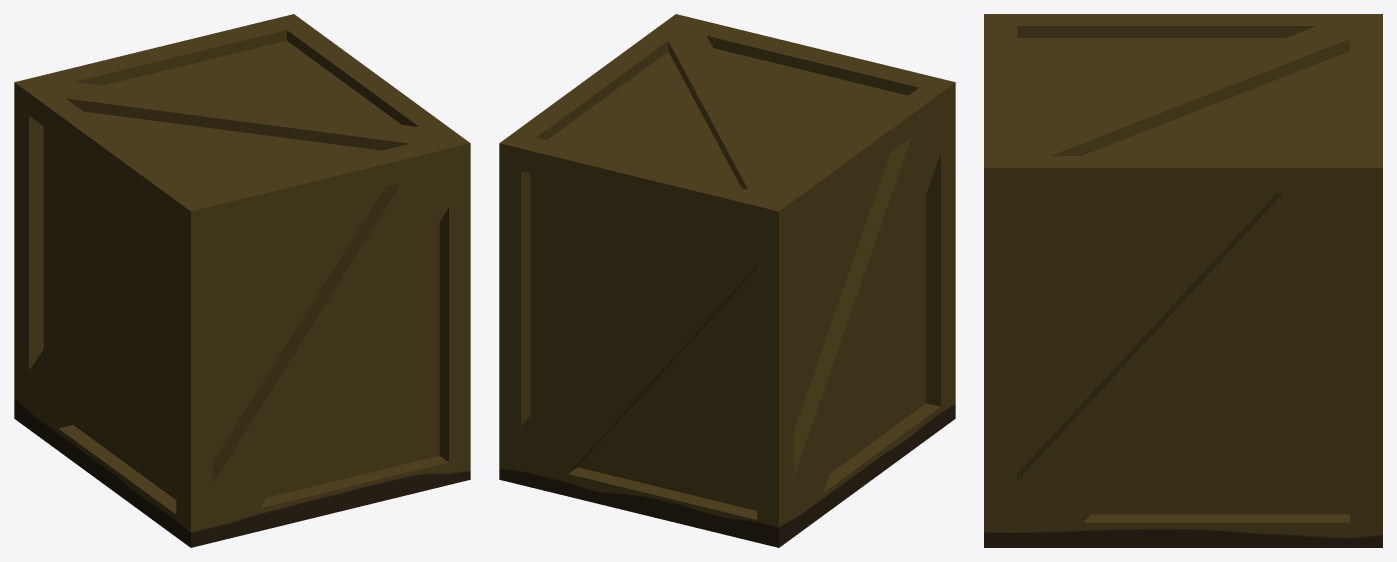
The model's file is Pushable Box.fbx.
3 views of the same model, side by side, from view 1: azimuth 30°, elevation 25°; view 2: azimuth 150°, elevation 25°; view 3: azimuth 270°, elevation 25° (orthographic). The views are drawn at different scales.
Parts seen in each view (by area): view 1: Pushable_Box; view 2: Pushable_Box; view 3: Pushable_Box.
Part boxes in pixels (<box>): Pushable_Box: <box>14,14,470,547</box>; Pushable_Box: <box>499,14,955,547</box>; Pushable_Box: <box>984,14,1382,547</box>.
Bounding box in the file's own units: 4.93 × 5.67 × 5.39.
